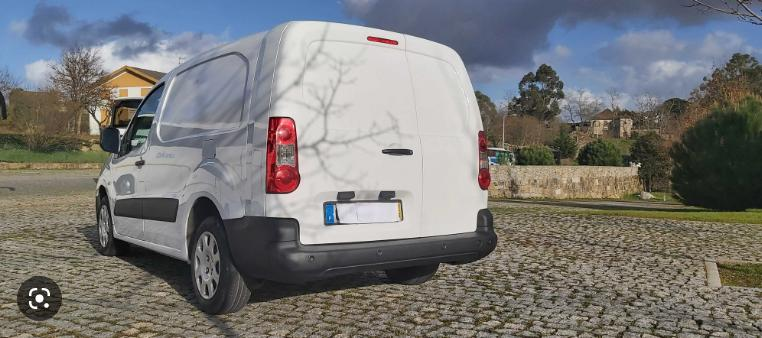vehicle: (95, 22, 498, 314)
